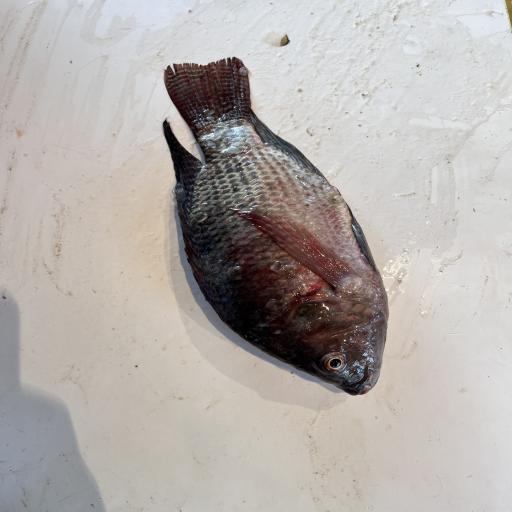Tilapia: (162, 57, 389, 396)
